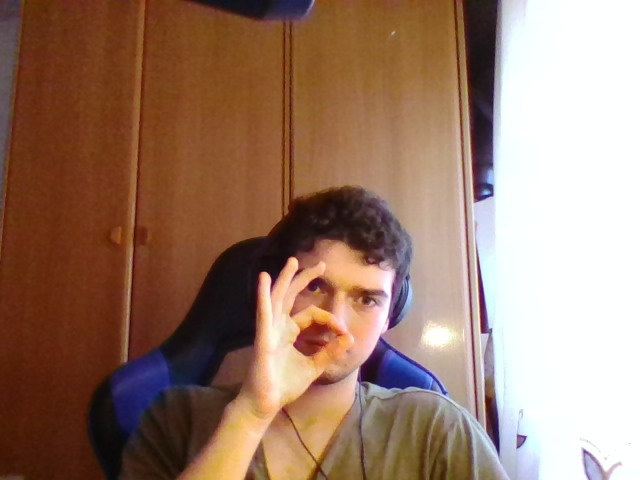o: (234, 254, 362, 421)
